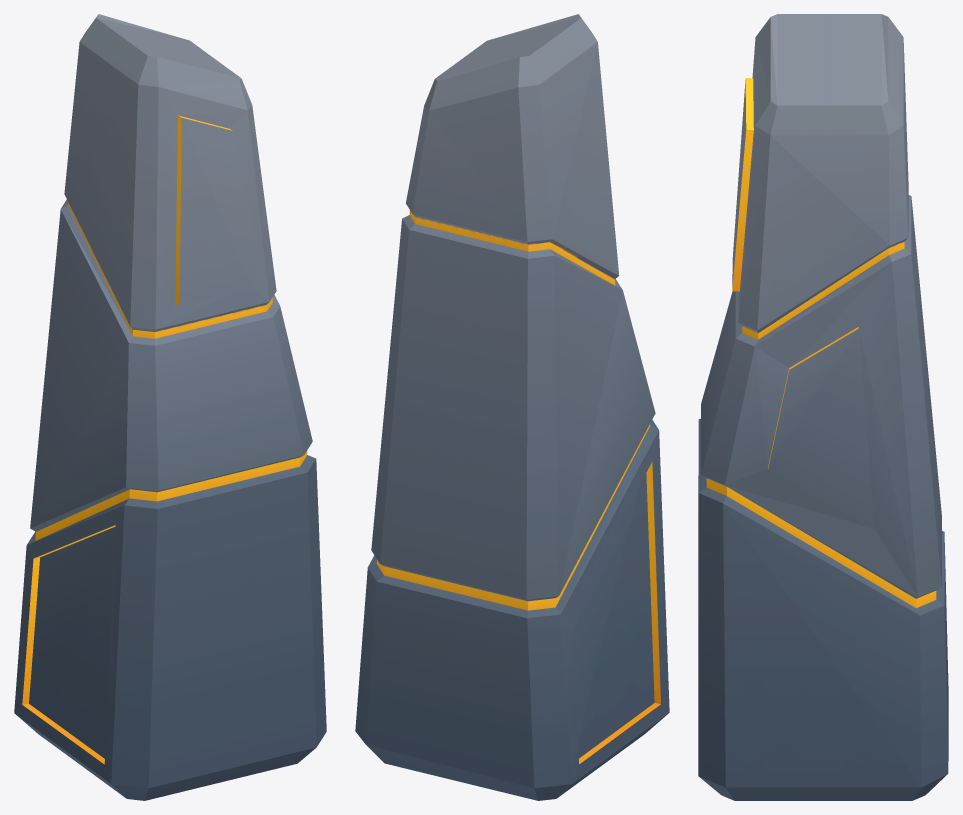
Rendered from SM_APP_Alien_blockB.glb.
The picture shows the model from 3 angles, left to right: view 1: azimuth 30°, elevation 25°; view 2: azimuth 150°, elevation 25°; view 3: azimuth 270°, elevation 25°; orthographic projection.
Visible parts, largest first — view 1: SM_APP_Alien_blockB; view 2: SM_APP_Alien_blockB; view 3: SM_APP_Alien_blockB.
Boxes of the visible parts, box(x1,y1,x2,y2) form: SM_APP_Alien_blockB: box(14, 14, 326, 800); SM_APP_Alien_blockB: box(355, 14, 669, 800); SM_APP_Alien_blockB: box(698, 14, 948, 800).
Bounding box in the file's own units: 3.51 × 11.15 × 3.51.
Materials: 1 (1 with a texture image).
